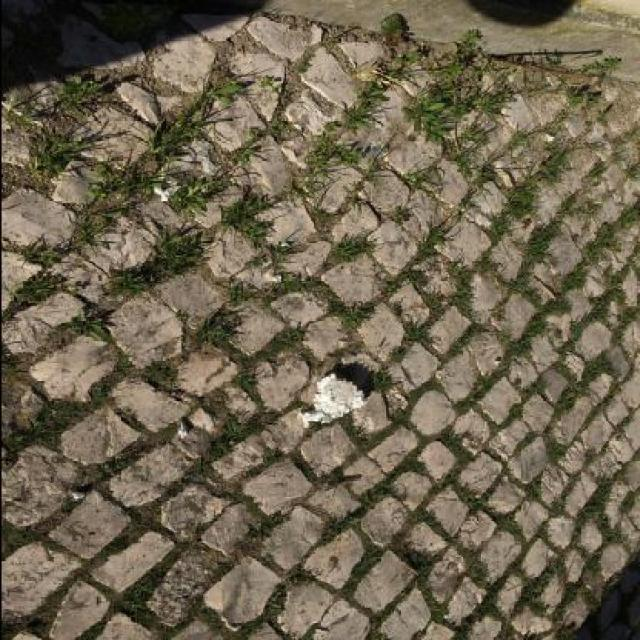foam: (299, 372, 370, 428)
